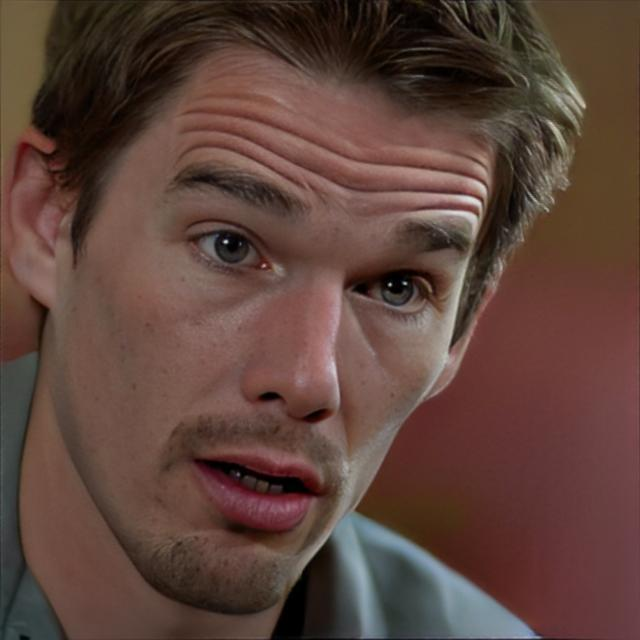surprise: (73, 43, 500, 613)
